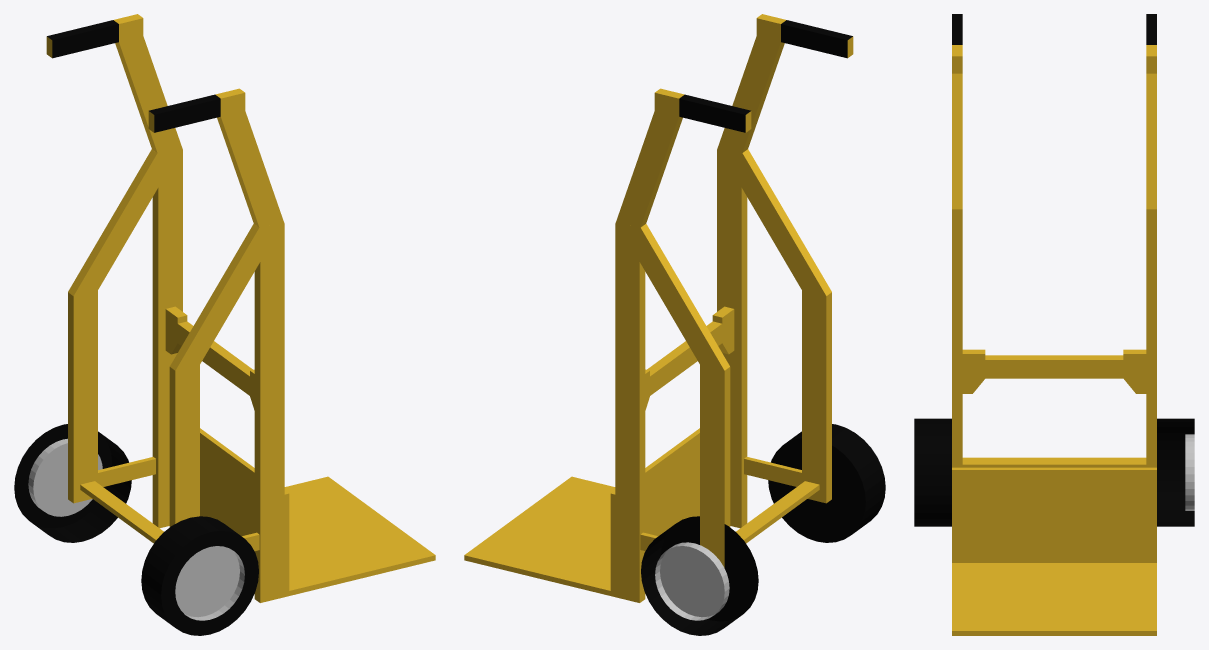
File: Trolley.fbx
3 views of the same model, side by side, from view 1: azimuth 30°, elevation 25°; view 2: azimuth 150°, elevation 25°; view 3: azimuth 270°, elevation 25° (orthographic). The views are drawn at different scales.
Parts seen in each view (by area): view 1: Cube.004; view 2: Cube.004; view 3: Cube.004.
Part boxes in pixels (x1,y1,x2,y2): Cube.004: (14, 14, 435, 635); Cube.004: (464, 14, 885, 635); Cube.004: (914, 14, 1194, 635).
Size of the model in its own units: 60.08 by 100 by 51.92.
